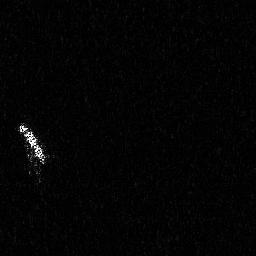ship: (17, 122, 51, 183)
